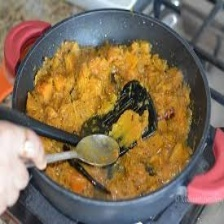sabzi: (22, 35, 201, 202)
